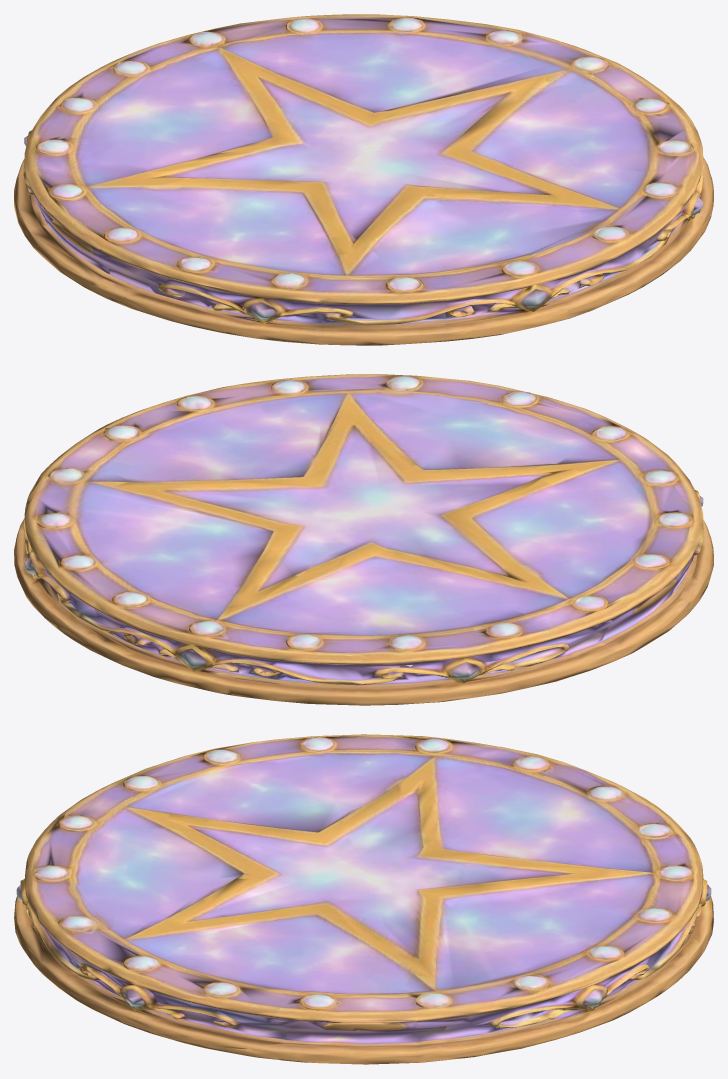
The model's file is dais.low.glb.
3 renders of one model, top to bottom at view 1: azimuth 30°, elevation 25°; view 2: azimuth 150°, elevation 25°; view 3: azimuth 270°, elevation 25°, orthographic.
Visible parts, largest first — view 1: tripo_node_b1dd5c26-9161-42a7-b5c6-c64be3246d3b; view 2: tripo_node_b1dd5c26-9161-42a7-b5c6-c64be3246d3b; view 3: tripo_node_b1dd5c26-9161-42a7-b5c6-c64be3246d3b.
Boxes of the visible parts, box(x1,y1,x2,y2) form: tripo_node_b1dd5c26-9161-42a7-b5c6-c64be3246d3b: box(14, 14, 713, 345); tripo_node_b1dd5c26-9161-42a7-b5c6-c64be3246d3b: box(14, 374, 713, 705); tripo_node_b1dd5c26-9161-42a7-b5c6-c64be3246d3b: box(14, 734, 713, 1064).
Bounding box in the file's own units: 5.2 × 0.3999 × 5.2.
1 material, 1 textured.
